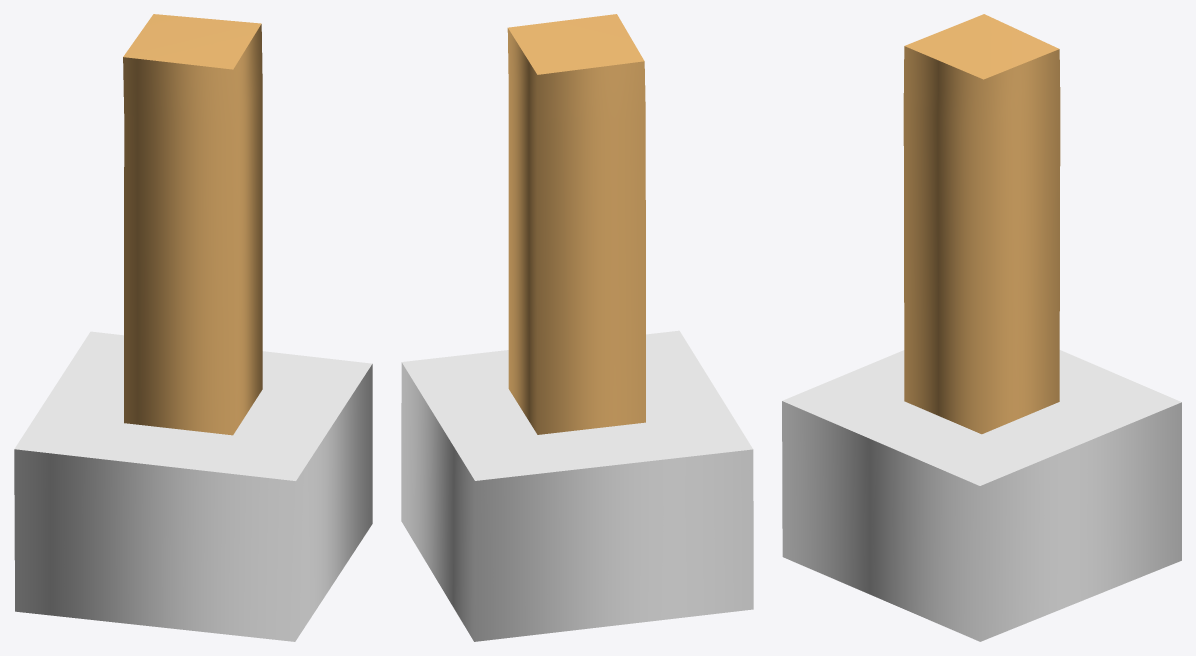
File: LimbForearm.obj
The picture shows the model from 3 angles, left to right: view 1: azimuth 30°, elevation 25°; view 2: azimuth 150°, elevation 25°; view 3: azimuth 270°, elevation 25°; orthographic projection. The views are drawn at different scales.
Bounding box in the file's own units: 0.9066 × 1.28 × 0.9058.
Materials: 2 (2 with a texture image).
